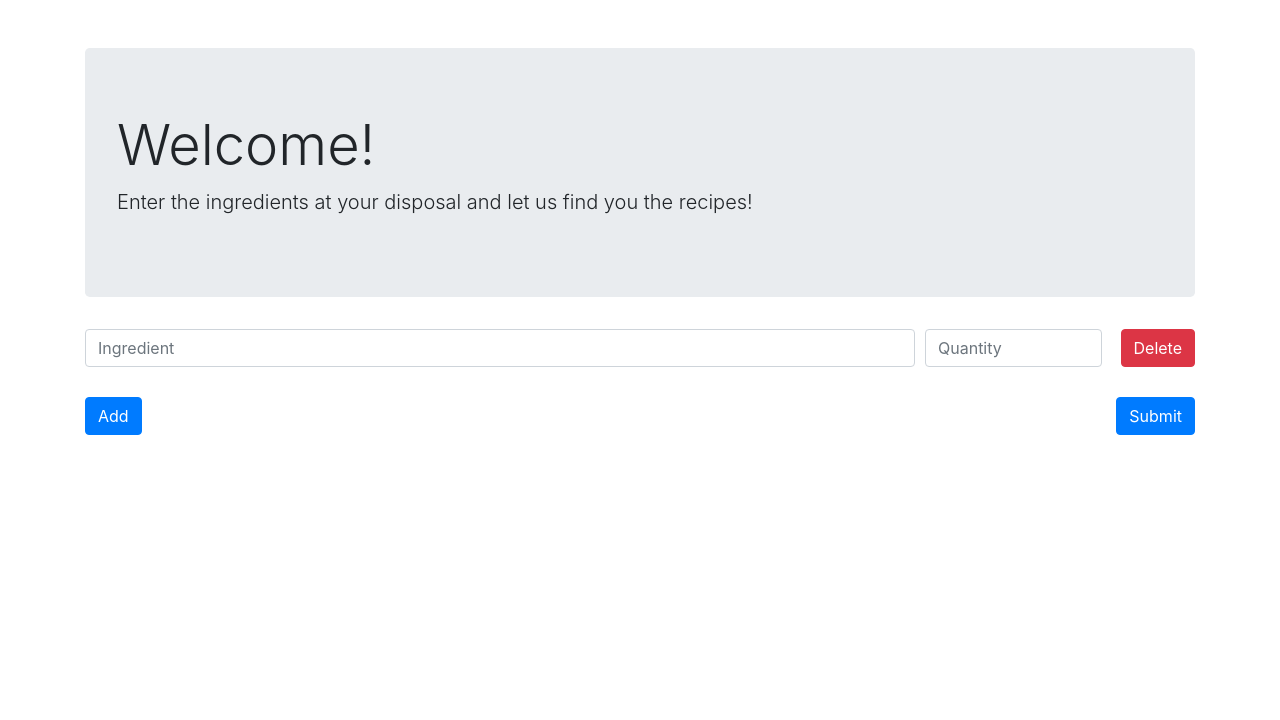
Test: Recipe finder test › search that results in no results
The image size is (1280, 720).
Type "invalid" into the field with class "ingredient-input" at (500, 348), box top-left (85, 329), bottom-right (915, 367)
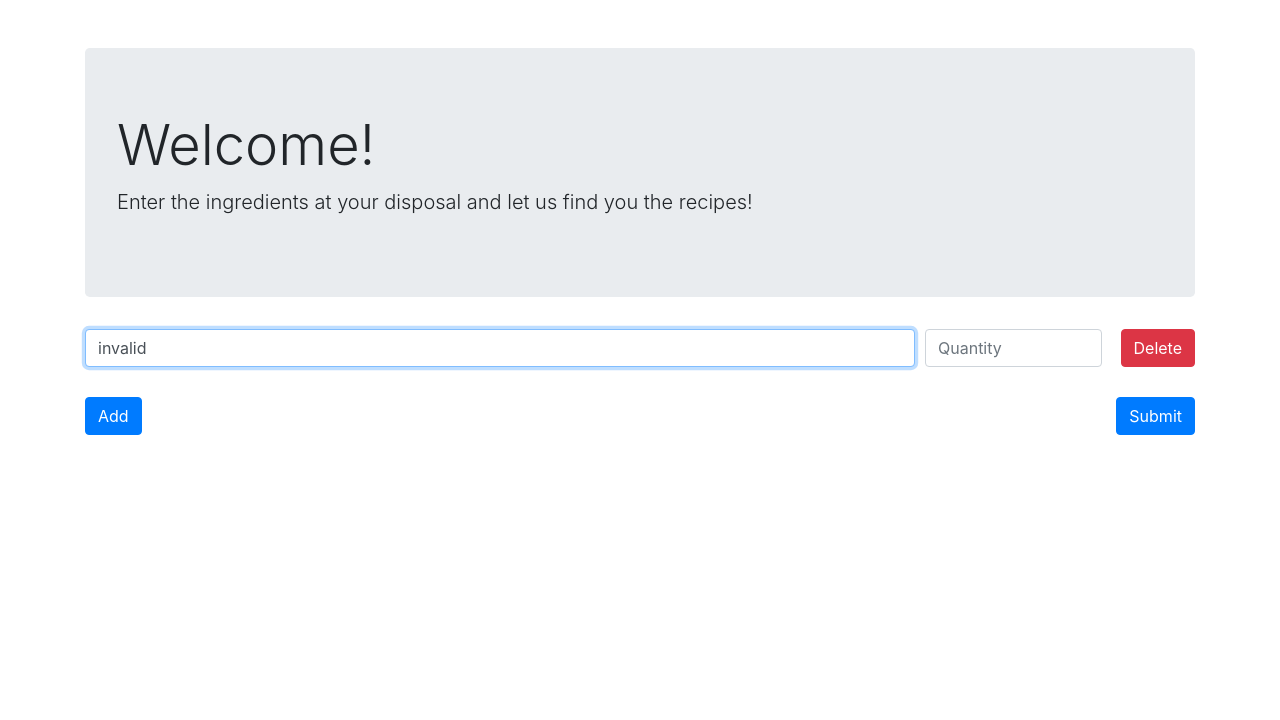
Type "100" into the number field with placeholder "Quantity" at (1014, 348), box top-left (925, 329), bottom-right (1102, 367)
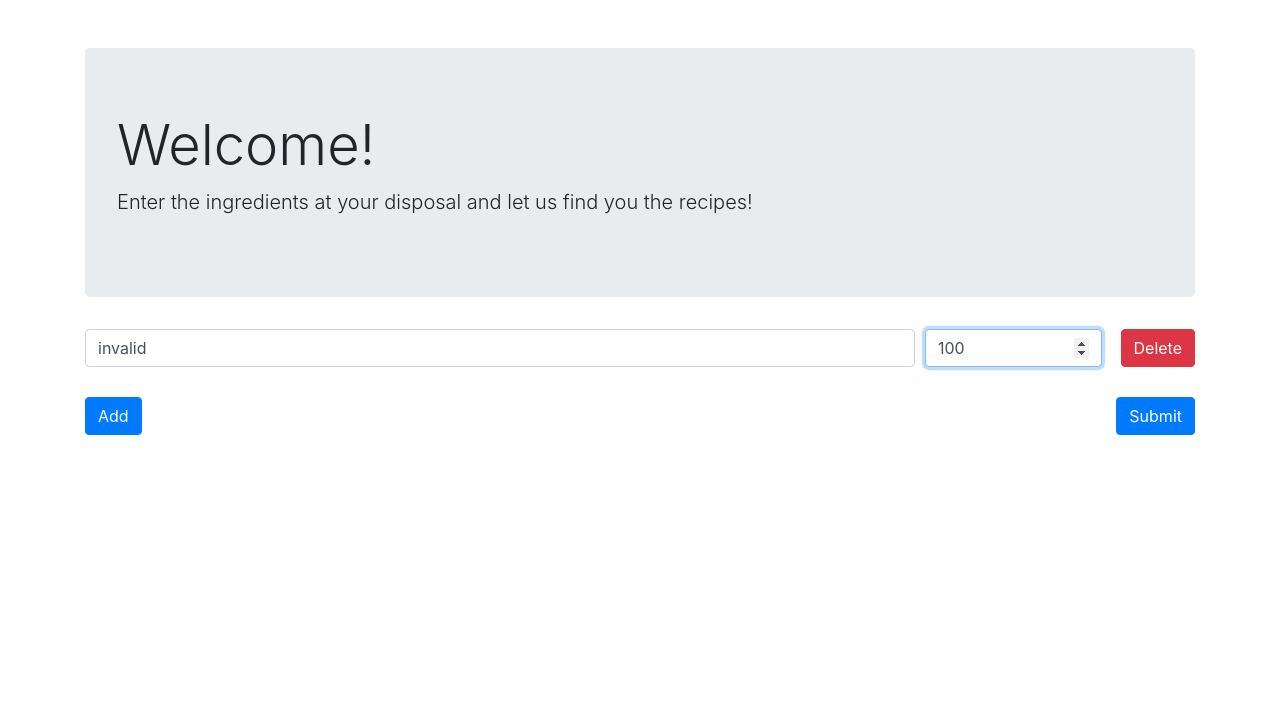
Click the button with class "btn-submit" at (1156, 416), box top-left (1116, 397), bottom-right (1195, 435)
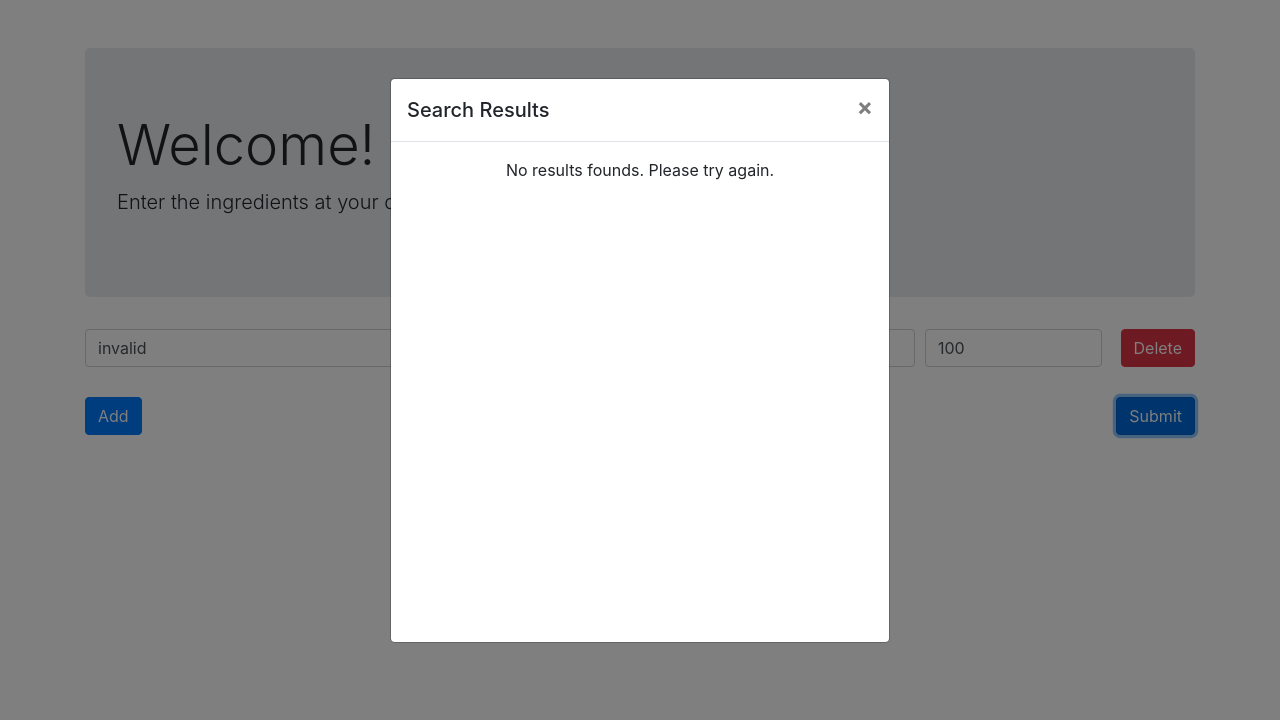
Expected: the element with class "zero-results" is shown, top-left (506, 160), bottom-right (774, 180)
